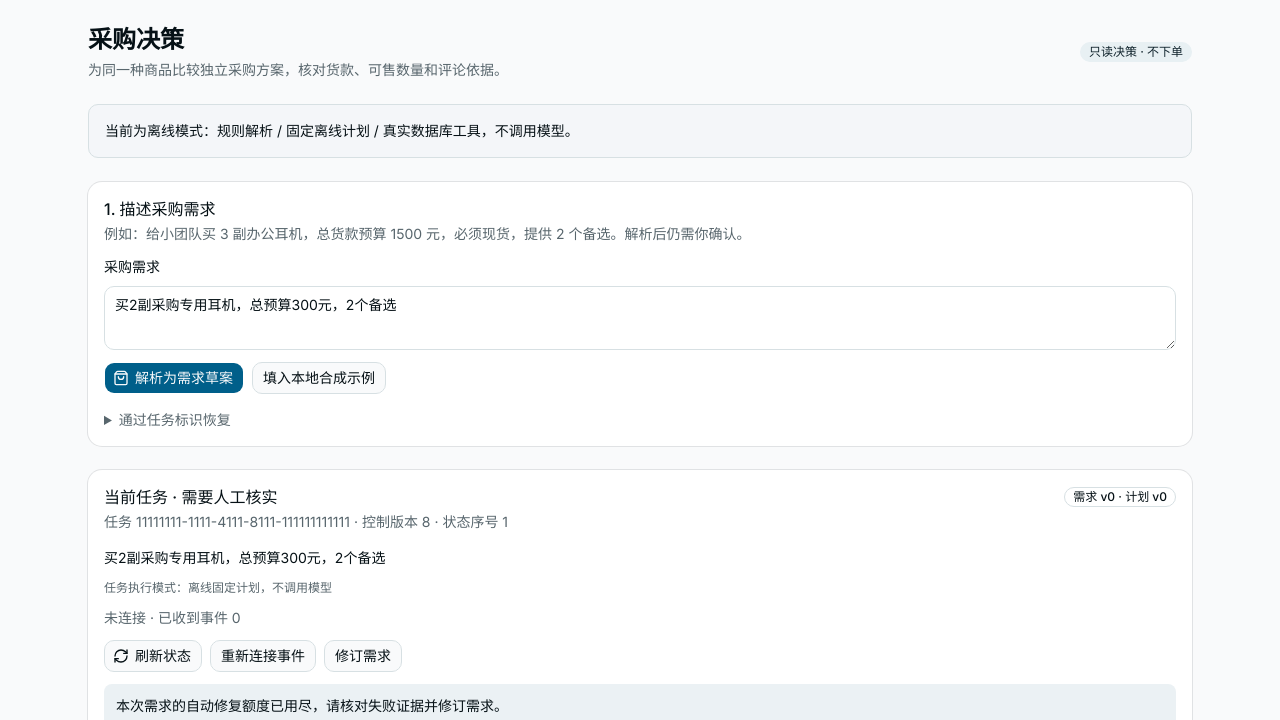
Scenario: 采购工作台合同测试（不替代真实后端验收） › 修复额度耗尽后展示失败依据，并通过显式修订入口进入暂停态
Click the button "修订需求" at (363, 656), box [324,640,402,672]
(page scrolled)
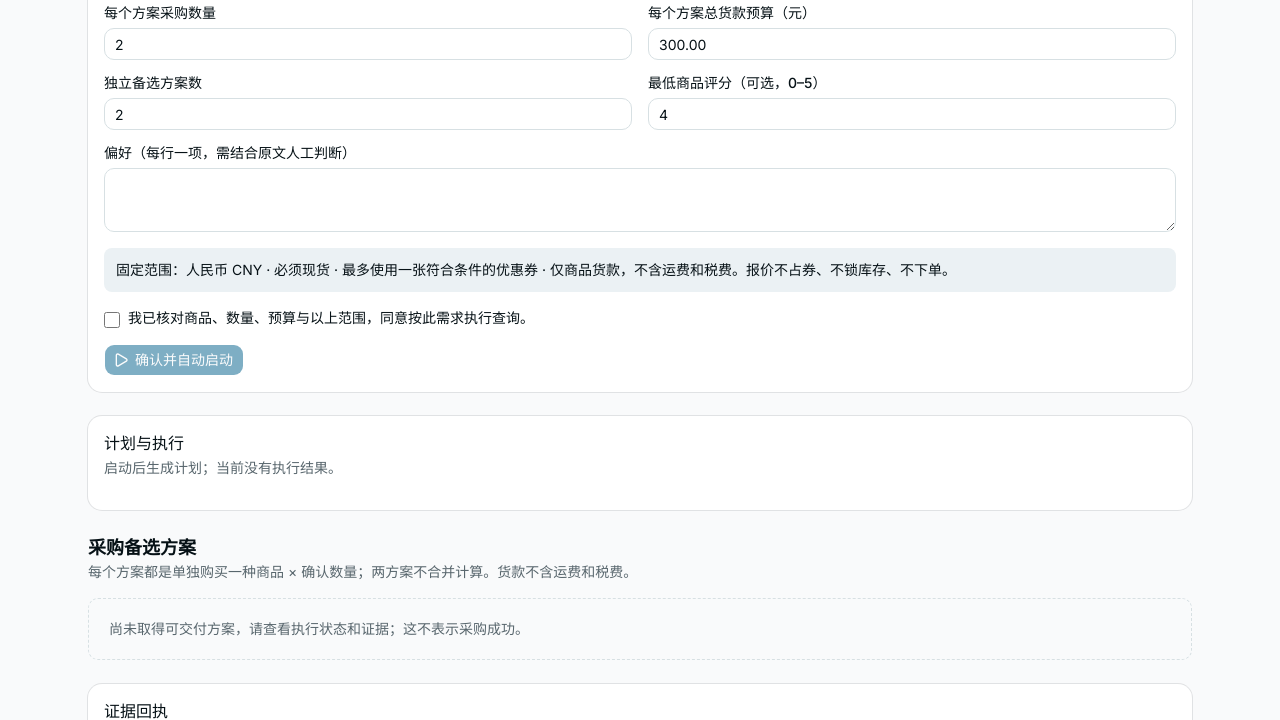
Expected: the button "确认并自动启动" is disabled, [104,344,244,376]
